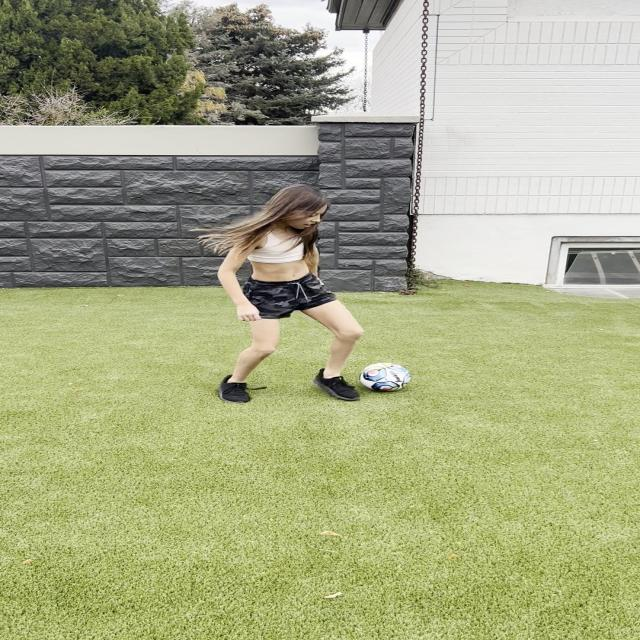Soccer Ball: (359, 362, 411, 392)
